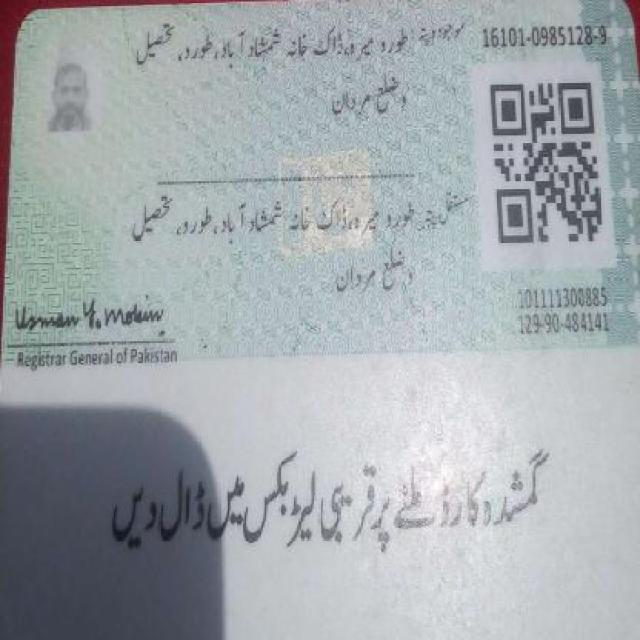Back: (4, 5, 634, 629)
